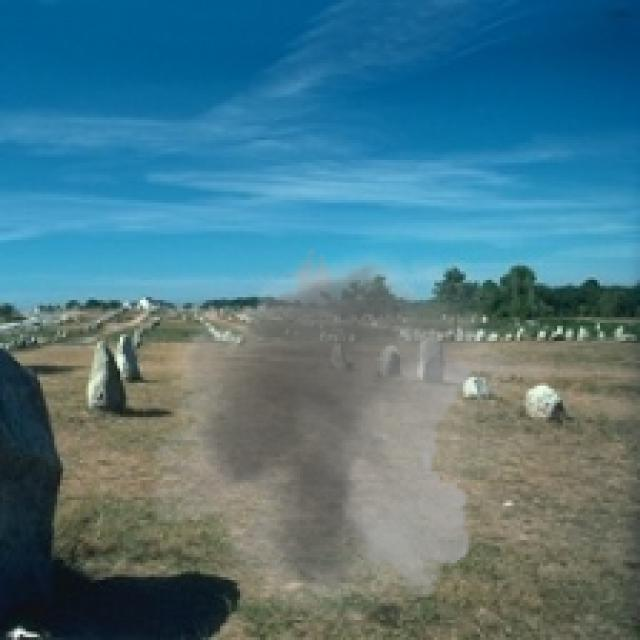Smoke: (132, 234, 557, 623)
